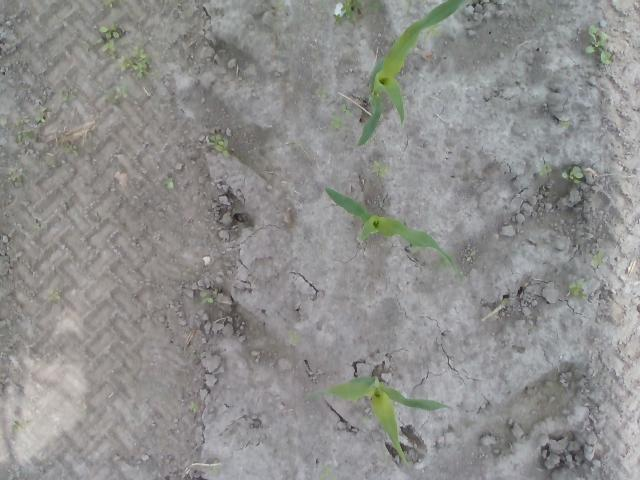Maize: (356, 0, 468, 150), (303, 374, 450, 466), (322, 186, 455, 266)
Weeds: (116, 46, 160, 80), (94, 14, 122, 64), (333, 0, 384, 26), (16, 106, 48, 146), (583, 23, 614, 64), (206, 134, 232, 161), (566, 271, 588, 302), (102, 77, 128, 102), (560, 164, 584, 190), (592, 246, 608, 270), (371, 158, 392, 176), (197, 286, 217, 304), (62, 142, 80, 160), (8, 166, 24, 186), (287, 329, 305, 346), (536, 160, 554, 177), (403, 0, 423, 15), (160, 176, 178, 192), (318, 464, 336, 480), (46, 287, 62, 304), (272, 0, 288, 17), (328, 114, 344, 130), (339, 100, 354, 116), (311, 85, 328, 98), (559, 115, 573, 130), (62, 88, 78, 101), (454, 270, 466, 286), (32, 223, 48, 233), (430, 24, 442, 37), (14, 422, 26, 433), (190, 400, 198, 416), (208, 465, 219, 476), (466, 250, 476, 262), (0, 112, 6, 128), (0, 350, 8, 360)
